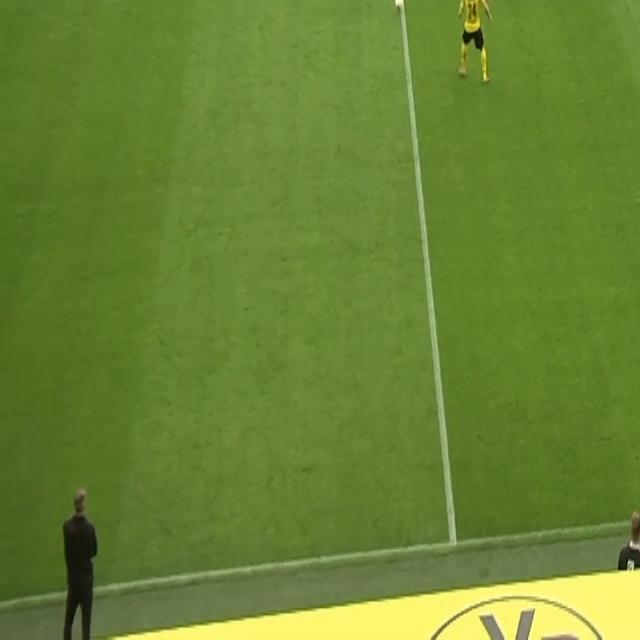ball: (394, 0, 403, 11)
